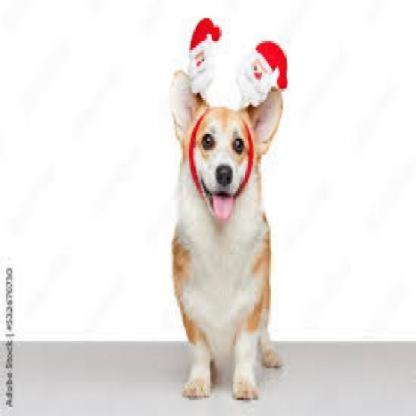dog: (159, 67, 287, 404)
